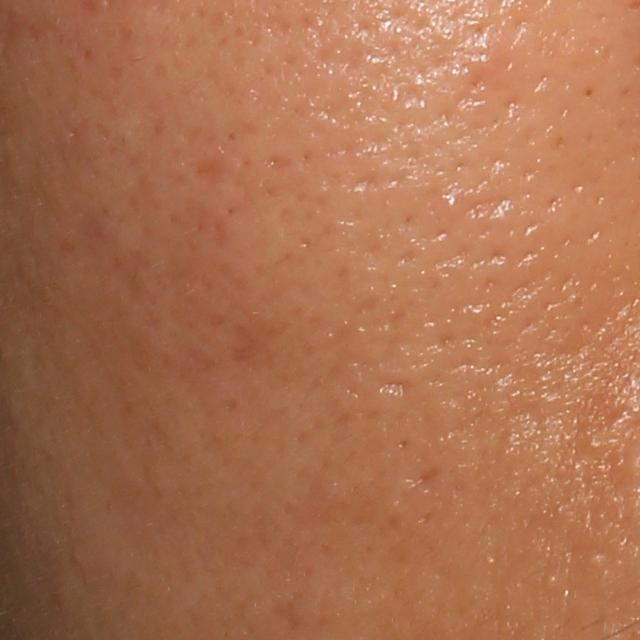atrophic_scar: (373, 380, 414, 399)
